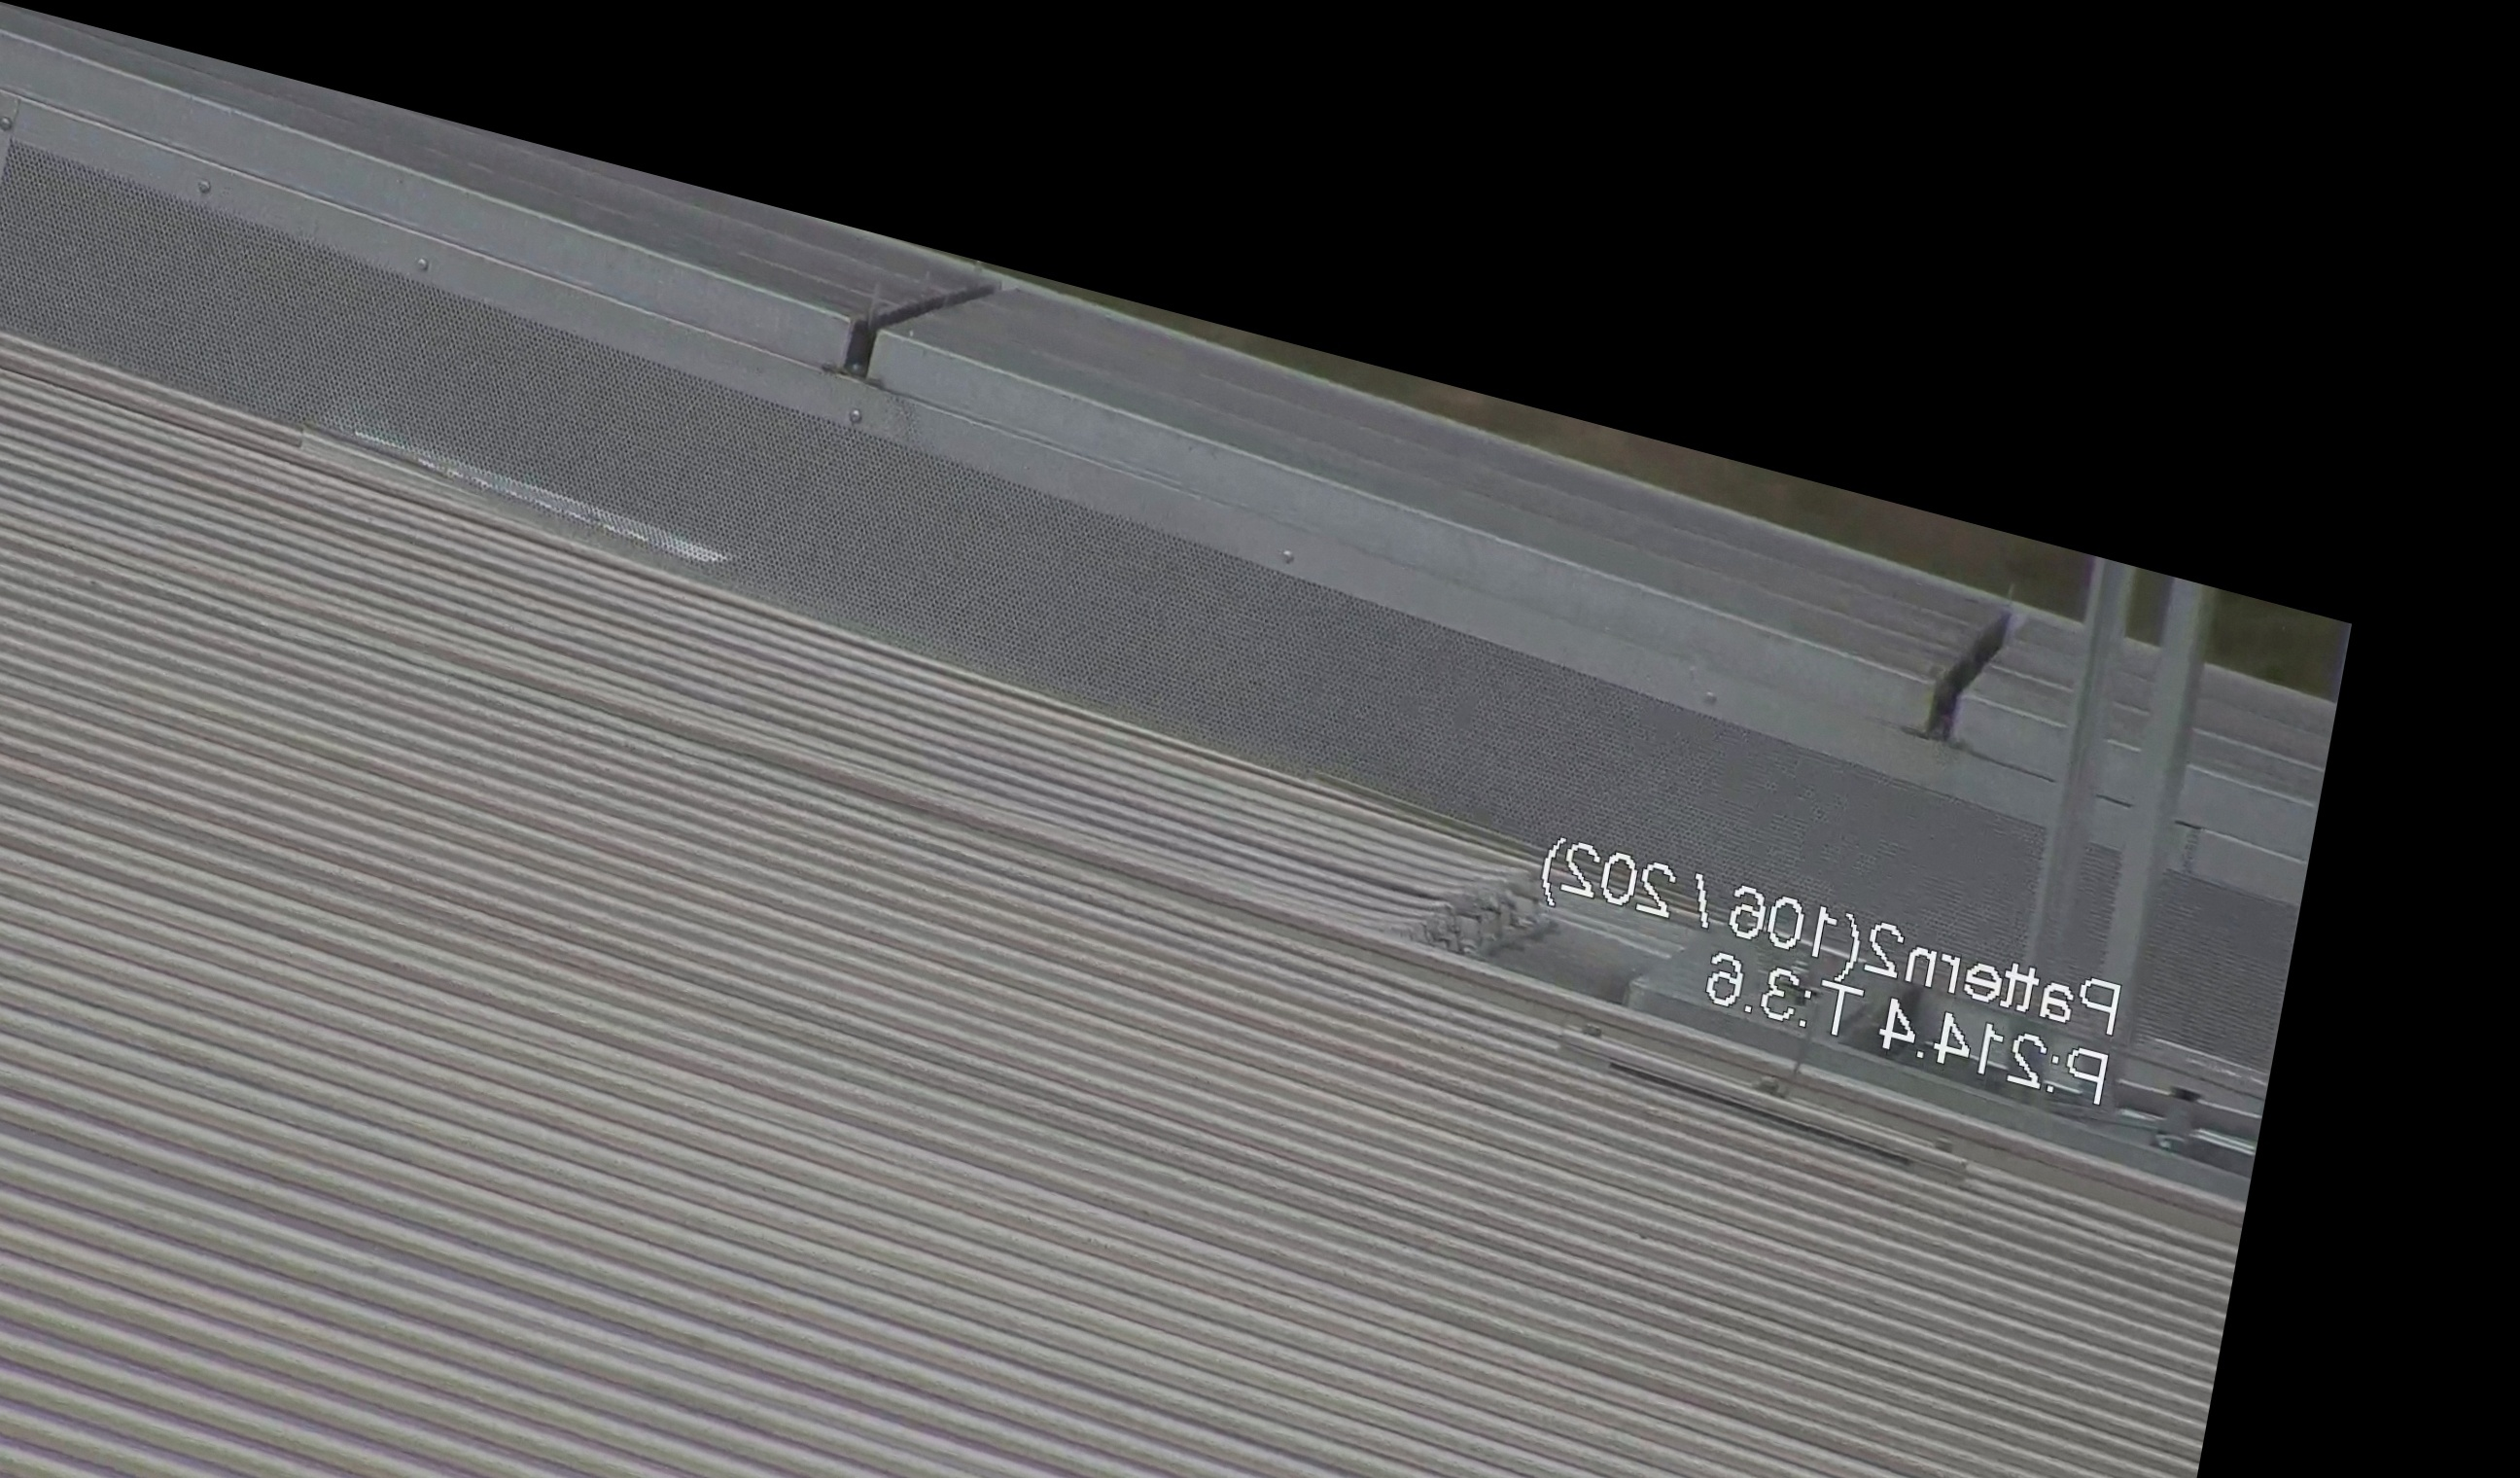Other: (1908, 574, 2038, 772)
